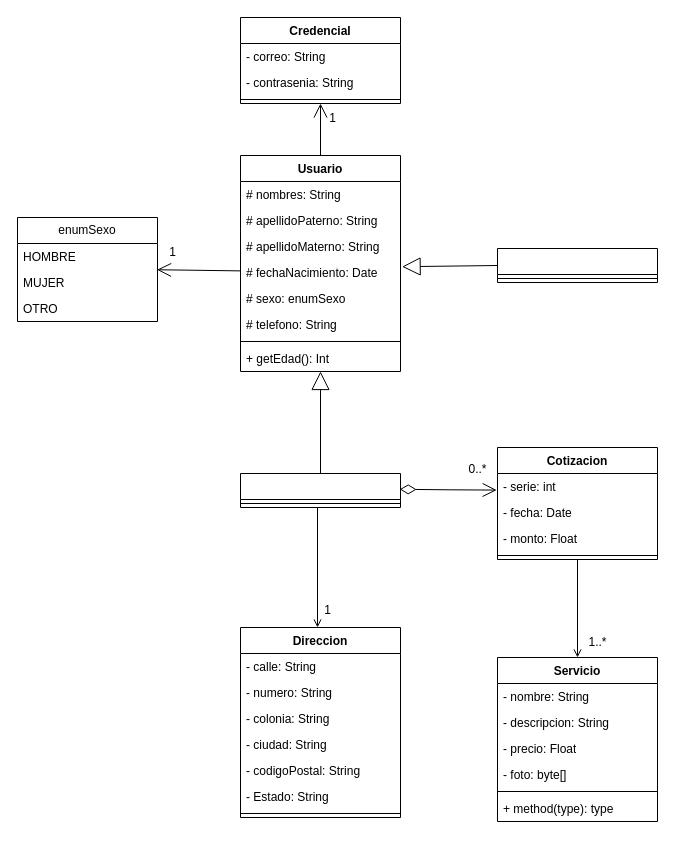
Image size: 675x842. Some labels were removed from this diagram. The shapes that lost their labels are listed below. From the top down, each one's centre as x and y in pixels, then its label:
the point at 577,265: Encargado
the point at 320,490: Cliente
